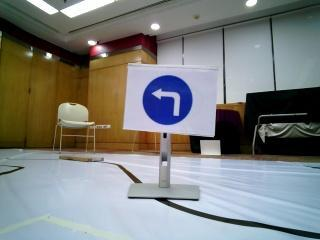left: (128, 66, 206, 133)
